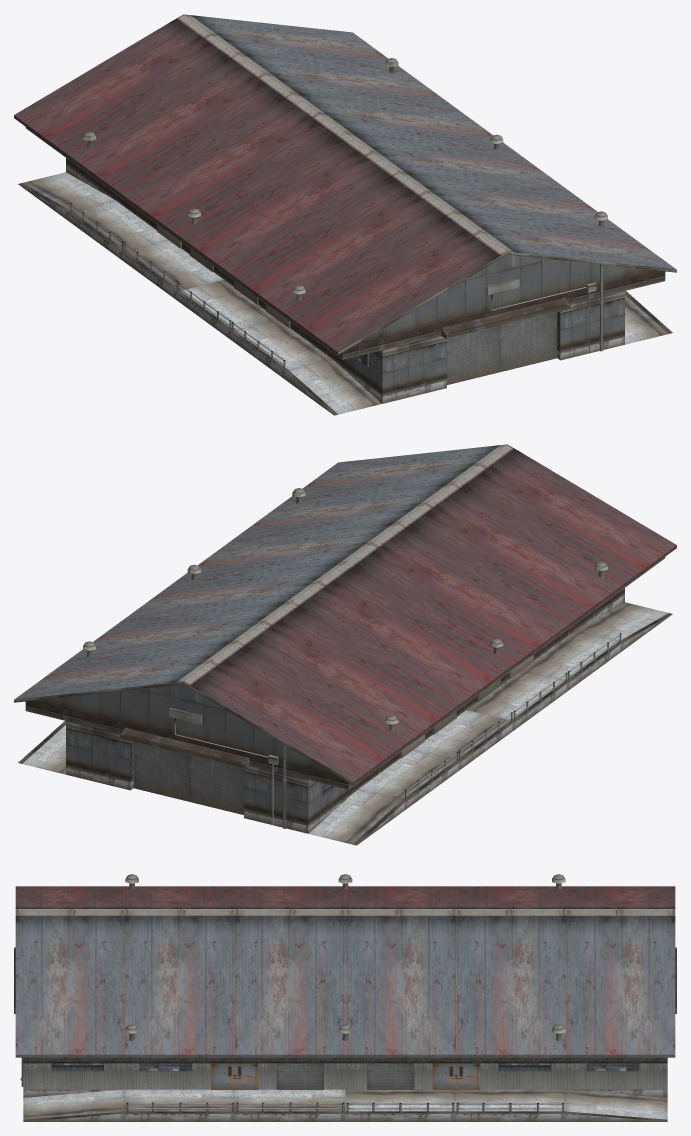
The model's file is ind-warehouse-5.lod0.glb.
3 renders of one model, top to bottom at view 1: azimuth 30°, elevation 25°; view 2: azimuth 150°, elevation 25°; view 3: azimuth 270°, elevation 25°, orthographic.
Visible parts, largest first — view 1: Industrial_Warehouse_5_Industrial_Walls_FLR_1_0, Industrial_Warehouse_5_Material #140_0; view 2: Industrial_Warehouse_5_Industrial_Walls_FLR_1_0, Industrial_Warehouse_5_Material #140_0; view 3: Industrial_Warehouse_5_Industrial_Walls_FLR_1_0, Industrial_Warehouse_5_Material #140_0.
Boxes of the visible parts, bbox=[...] form: Industrial_Warehouse_5_Industrial_Walls_FLR_1_0: bbox=[14, 14, 676, 395]; Industrial_Warehouse_5_Material #140_0: bbox=[18, 164, 672, 415]; Industrial_Warehouse_5_Industrial_Walls_FLR_1_0: bbox=[14, 444, 676, 828]; Industrial_Warehouse_5_Material #140_0: bbox=[18, 594, 672, 845]; Industrial_Warehouse_5_Industrial_Walls_FLR_1_0: bbox=[14, 874, 676, 1113]; Industrial_Warehouse_5_Material #140_0: bbox=[23, 1063, 667, 1121].
Bounding box in the file's own units: 33 × 11.68 × 54.94.
Materials: 2 (2 with a texture image).
